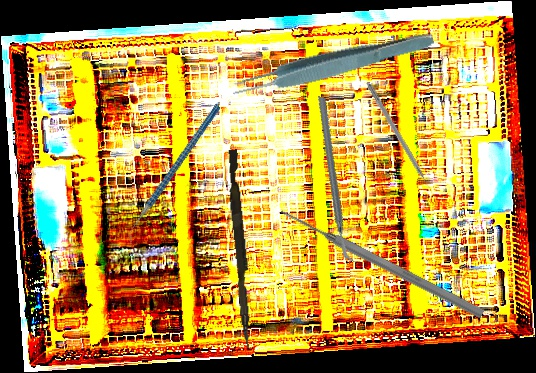Chopper: (92, 103, 257, 248), (279, 95, 394, 263)
Pusher: (277, 204, 487, 321), (365, 83, 435, 196), (223, 149, 258, 349)
Tissue Forceps: (228, 25, 437, 102)
